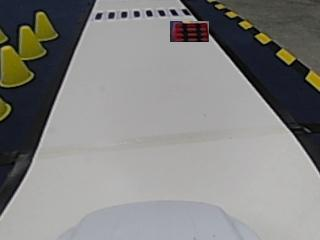crosswalk: (92, 7, 191, 20)
